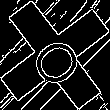O_NE: (22, 22, 88, 88)
